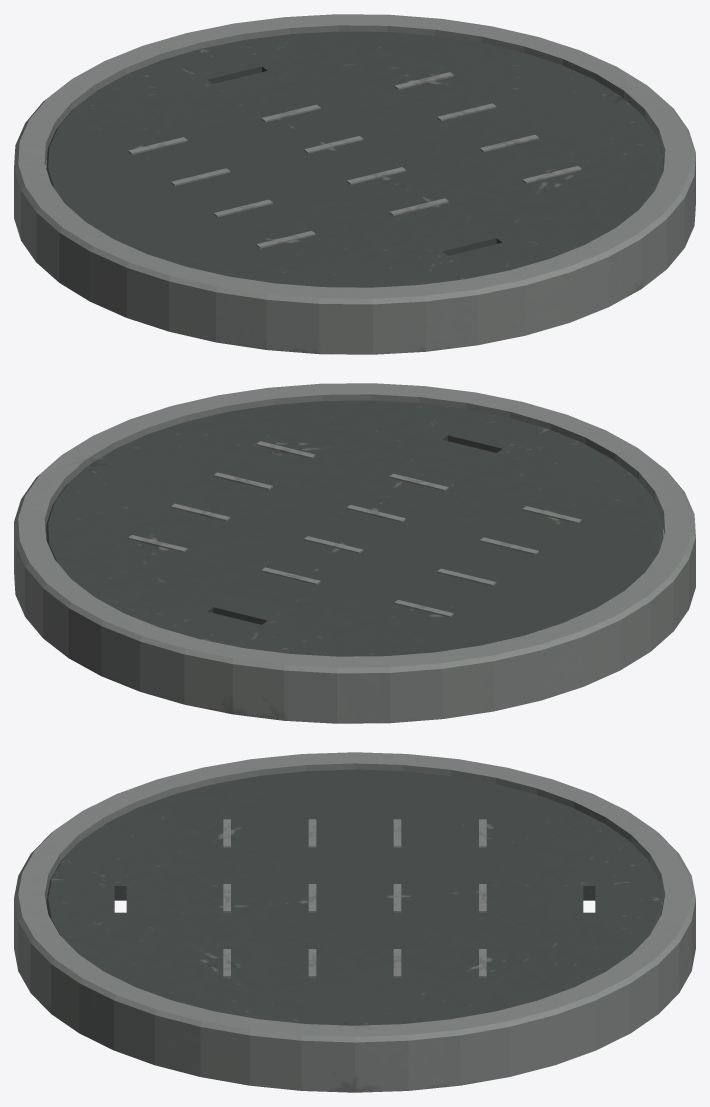
File: manhole_cover_round.glb
The picture shows the model from 3 angles, top to bottom: view 1: azimuth 30°, elevation 25°; view 2: azimuth 150°, elevation 25°; view 3: azimuth 270°, elevation 25°; orthographic projection.
Visible parts, largest first — view 1: ManholeCoverRound; view 2: ManholeCoverRound; view 3: ManholeCoverRound.
Boxes of the visible parts, x1,y1,x2,y2 form: ManholeCoverRound: [14, 14, 695, 354]; ManholeCoverRound: [14, 383, 695, 723]; ManholeCoverRound: [14, 752, 695, 1092].
Size of the model in its own units: 0.8 by 0.07 by 0.8.
1 material, 1 textured.
